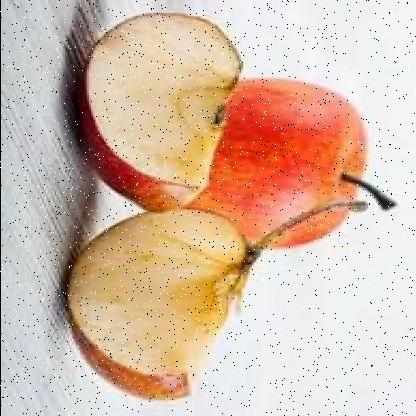apple: (195, 80, 367, 250)
damaged_apple: (75, 14, 238, 212), (73, 220, 249, 398)
